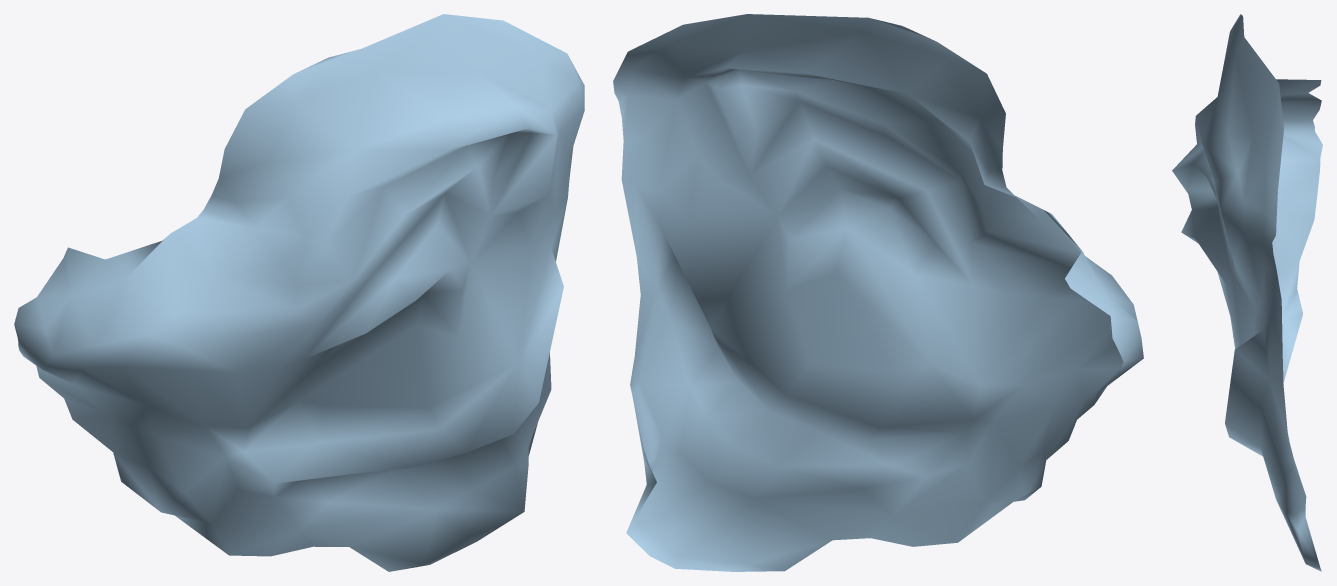
Rendered from RS-4Y_ice05RIGHT.fbx.
3 renders of one model, left to right at view 1: azimuth 30°, elevation 25°; view 2: azimuth 150°, elevation 25°; view 3: azimuth 270°, elevation 25°, orthographic. The views are drawn at different scales.
Parts seen in each view (by area): view 1: RS-4Y_ice05RIGHT.001; view 2: RS-4Y_ice05RIGHT.001; view 3: RS-4Y_ice05RIGHT.001.
Boxes of the visible parts, left/top/right/bottom form: RS-4Y_ice05RIGHT.001: left=14, top=14, right=584, bottom=571; RS-4Y_ice05RIGHT.001: left=613, top=14, right=1143, bottom=571; RS-4Y_ice05RIGHT.001: left=1172, top=14, right=1322, bottom=571.
Size of the model in its own units: 4064 by 4047 by 1180.
